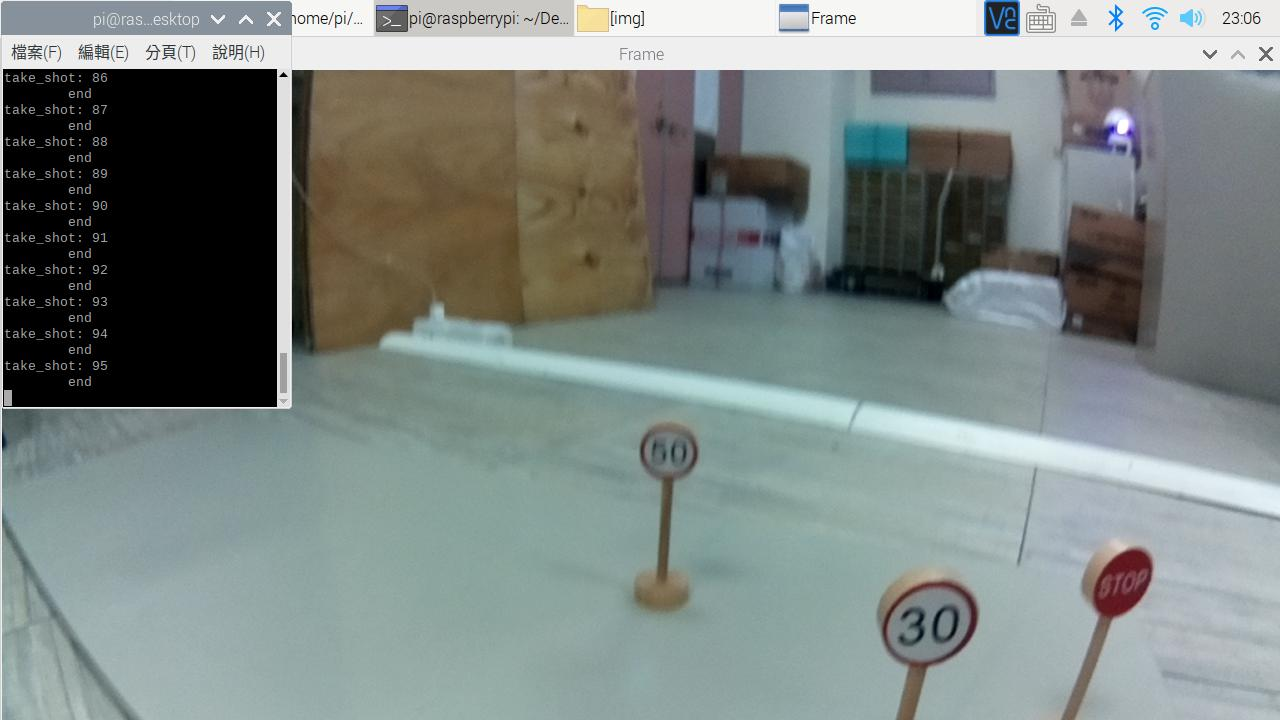Speed30: (866, 570, 980, 670)
Speed50: (638, 416, 709, 483)
Stop: (1075, 543, 1164, 623)
